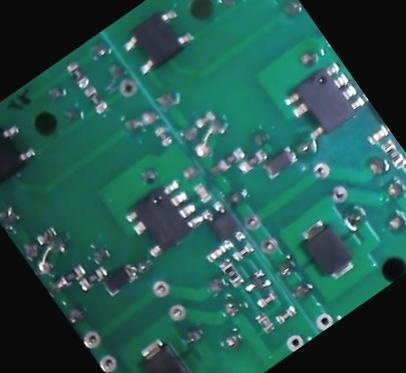chip-capacitor: (364, 121, 390, 145), (191, 178, 214, 203), (203, 241, 227, 262)
chip-resistor: (80, 81, 111, 116), (215, 253, 245, 288), (75, 261, 110, 291), (235, 144, 269, 174), (62, 55, 91, 88), (215, 142, 248, 170), (54, 260, 87, 288), (379, 136, 406, 169), (252, 307, 277, 334), (229, 238, 255, 262), (152, 122, 175, 147), (192, 107, 217, 129), (253, 286, 278, 308), (33, 222, 58, 244), (274, 302, 297, 324)
diode: (294, 212, 359, 283), (131, 330, 198, 373), (258, 140, 300, 179), (99, 258, 141, 296)
ic: (278, 54, 369, 142), (119, 171, 208, 259), (116, 0, 198, 77), (0, 113, 41, 193), (198, 195, 249, 251)
transistor: (238, 264, 274, 298)
